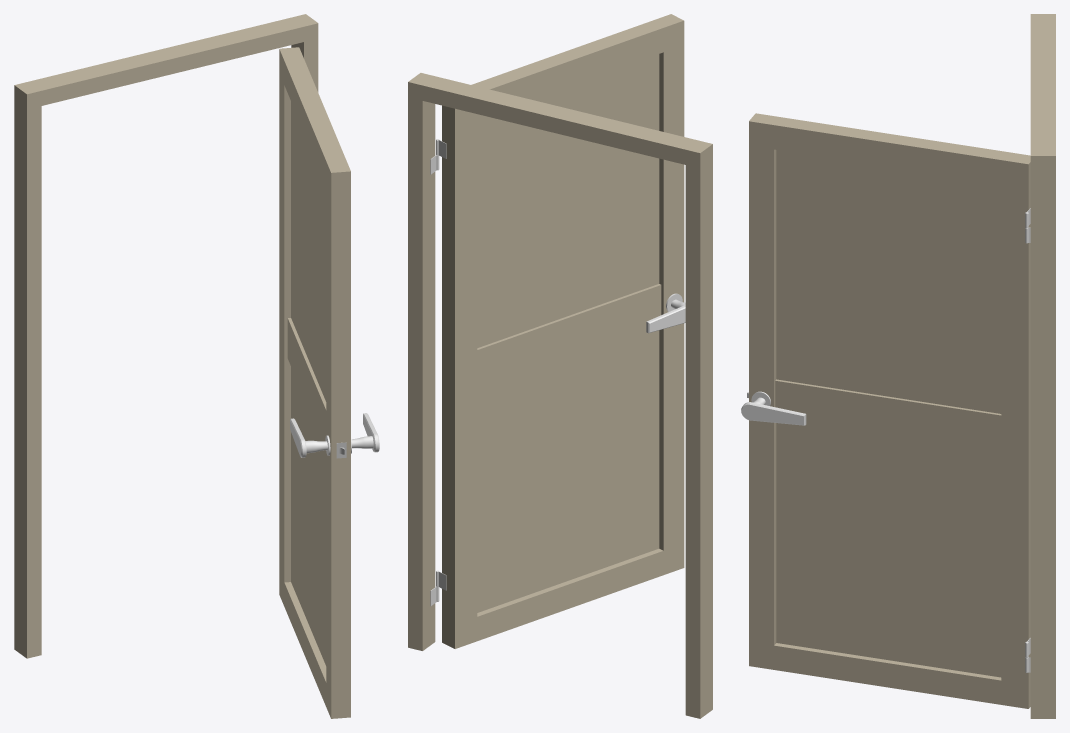
The model's file is 木ドア開.fbx.
3 views of the same model, side by side, from view 1: azimuth 30°, elevation 25°; view 2: azimuth 150°, elevation 25°; view 3: azimuth 270°, elevation 25° (orthographic).
Visible parts, largest first — view 1: door, waku; view 2: door, waku; view 3: door, waku.
Boxes of the visible parts, x1=… form: door: x1=279, y1=47, x2=379, y2=718; waku: x1=14, y1=14, x2=318, y2=658; door: x1=436, y1=14, x2=685, y2=648; waku: x1=408, y1=73, x2=712, y2=718; door: x1=741, y1=113, x2=1030, y2=708; waku: x1=1025, y1=14, x2=1055, y2=718.
Size of the model in its own units: 100 by 185 by 93.7.
